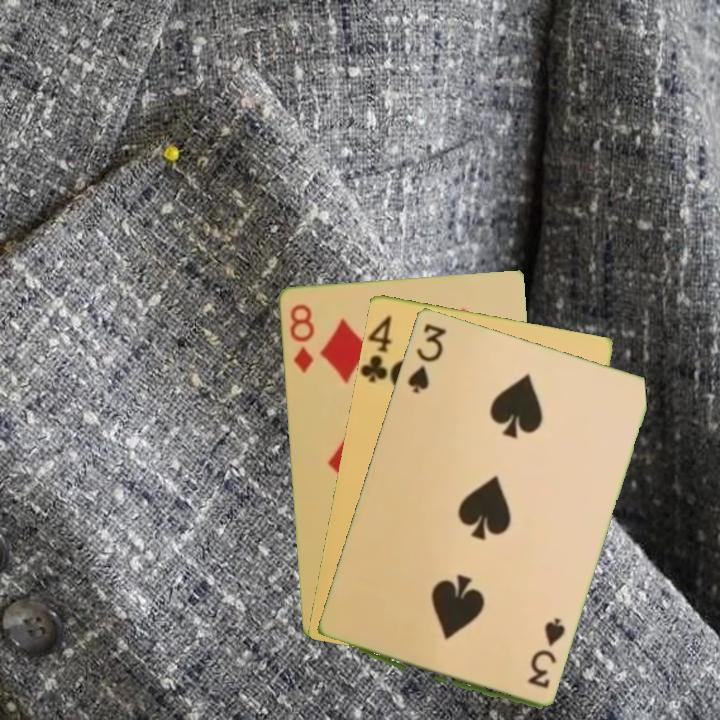3s: (403, 319, 449, 396), (523, 617, 568, 691)
4c: (359, 312, 394, 385)
8d: (286, 300, 317, 375)
